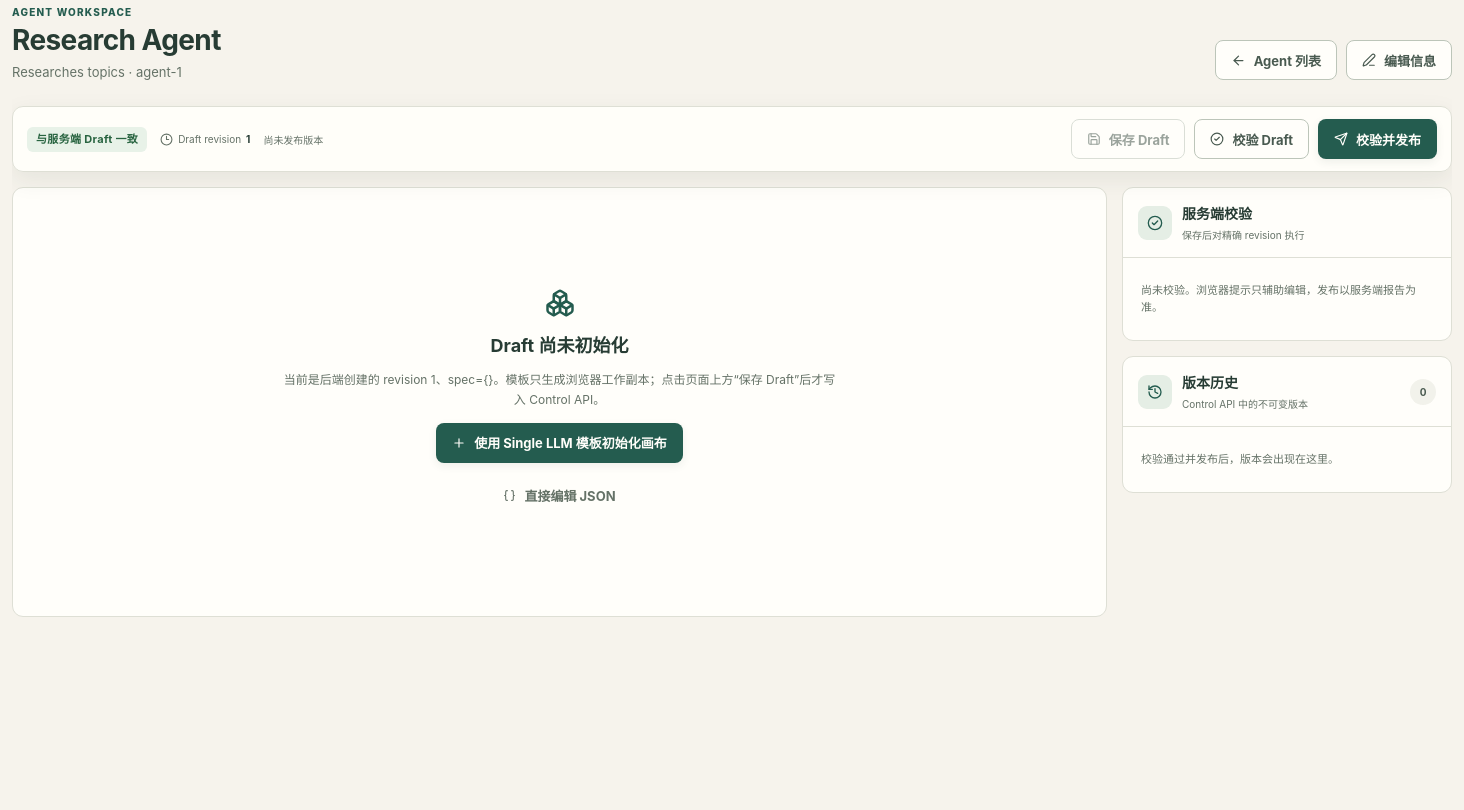
Test: AgentWorkspace Draft state machine › does not publish when the backend reports publication errors
Check: the heading "Research Agent" is shown, box x1=12 y1=24 x2=221 y2=56
Click the button "校验并发布". click: click(1378, 139)
box: x1=1318 y1=119 x2=1437 y2=159
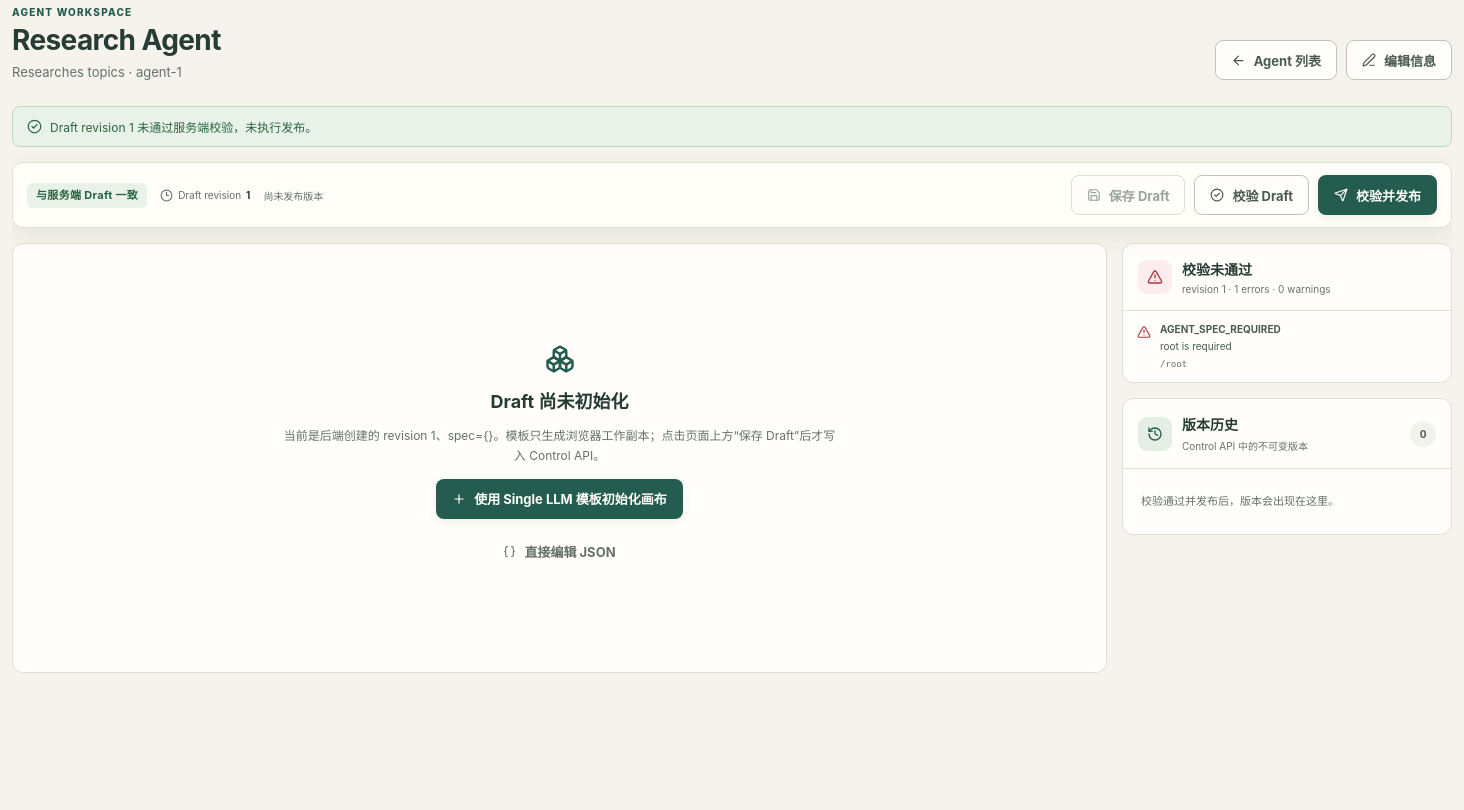
Check: the text "Draft revision 1 未通过服务端校验，未执行发布。" is shown, box x1=12 y1=106 x2=1452 y2=147
